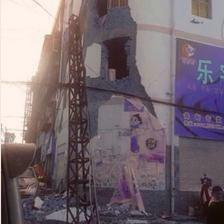Destroyed_Building: (22, 0, 223, 224)
